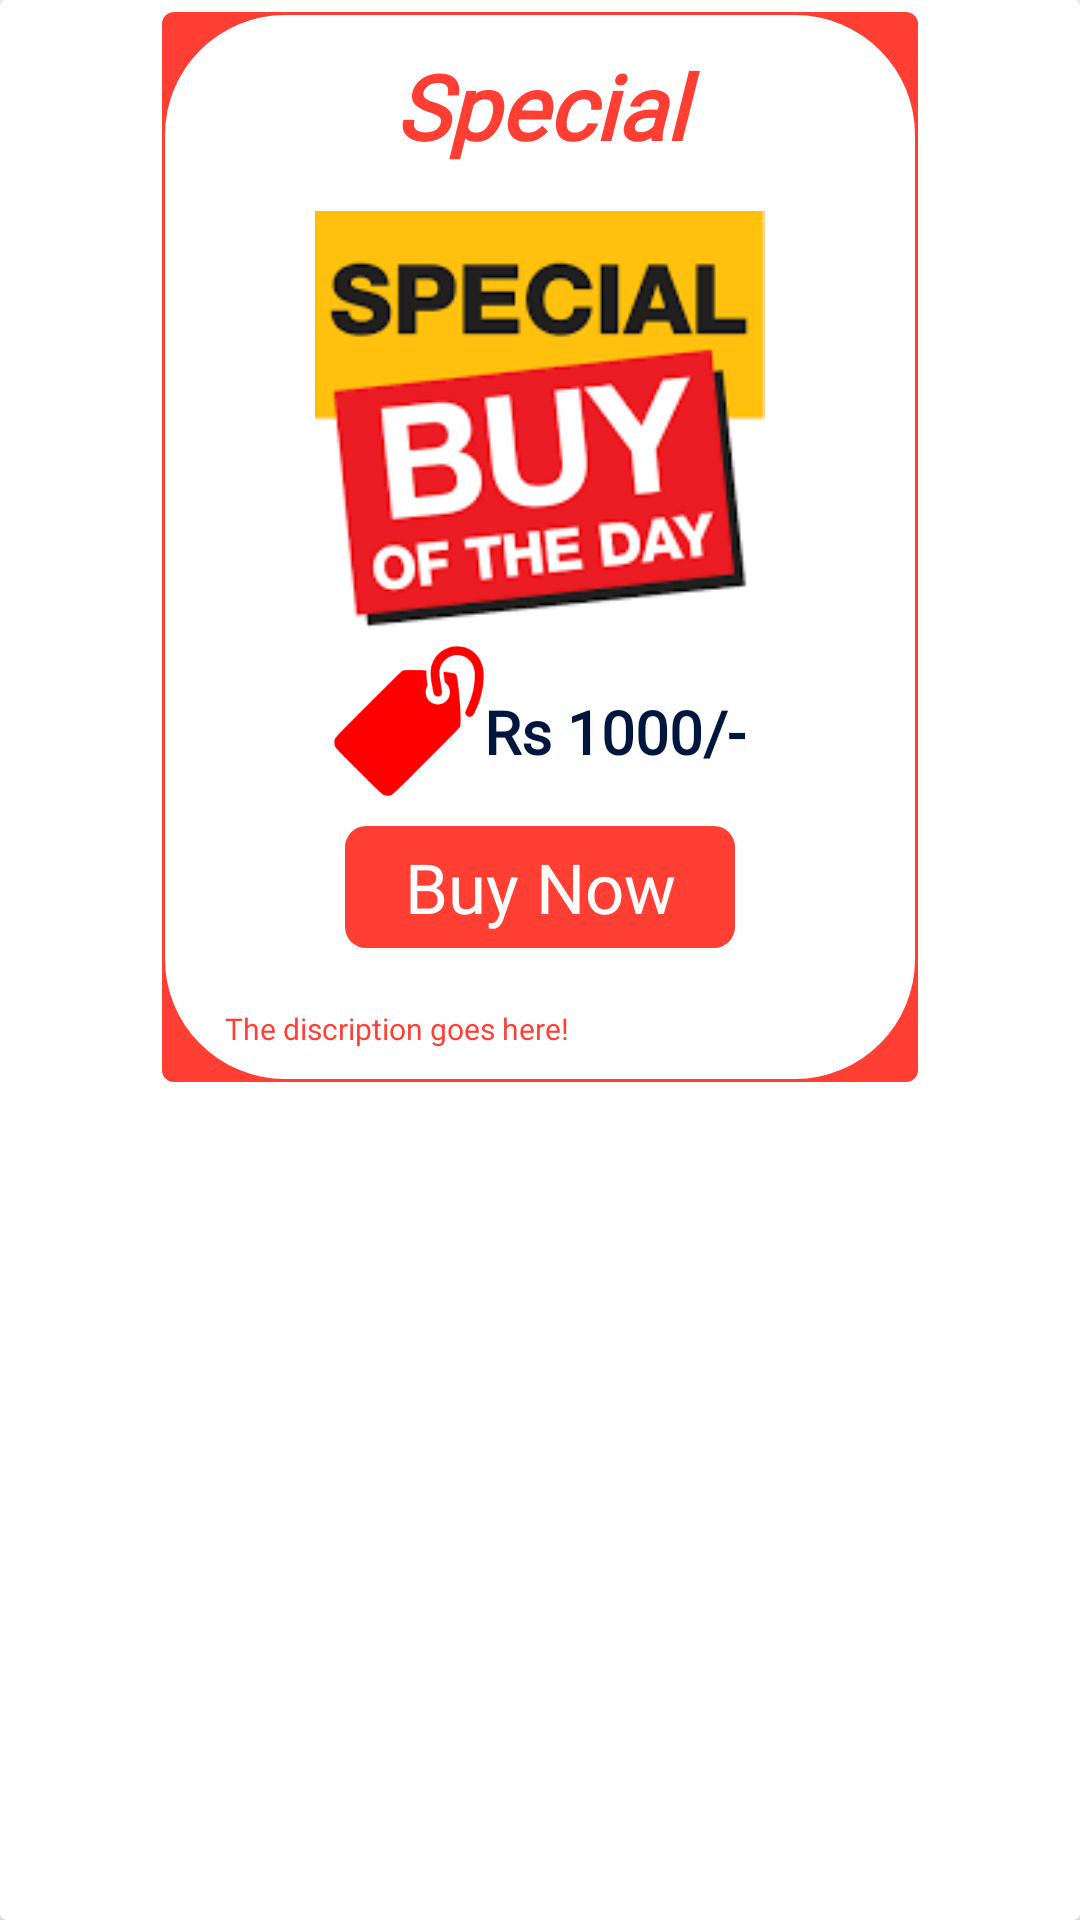

Where icons sit on this 1080×1920 app screen, as (x1, y1, x2, y2):
price tag: (334, 646, 484, 796)
